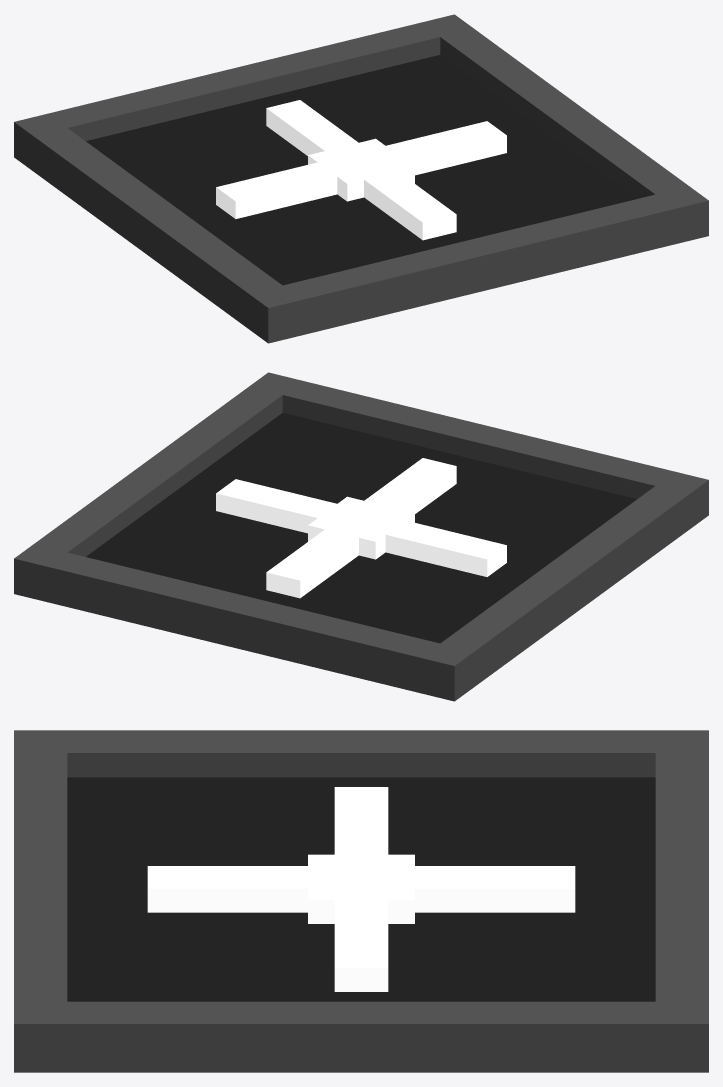
The model's file is trap_LARGE_DOT_GREY.glb.
The picture shows the model from 3 angles, top to bottom: view 1: azimuth 30°, elevation 25°; view 2: azimuth 150°, elevation 25°; view 3: azimuth 270°, elevation 25°; orthographic projection. The views are drawn at different scales.
Visible parts, largest first — view 1: item_TRAP_LARGE_DOT_GREY; view 2: item_TRAP_LARGE_DOT_GREY; view 3: item_TRAP_LARGE_DOT_GREY.
Part boxes in pixels (<box>): item_TRAP_LARGE_DOT_GREY: <box>14,14,708,343</box>; item_TRAP_LARGE_DOT_GREY: <box>14,372,708,701</box>; item_TRAP_LARGE_DOT_GREY: <box>14,730,708,1072</box>.
Size of the model in its own units: 0.5909 by 0.0455 by 0.5909.
Materials: 1 (1 with a texture image).
